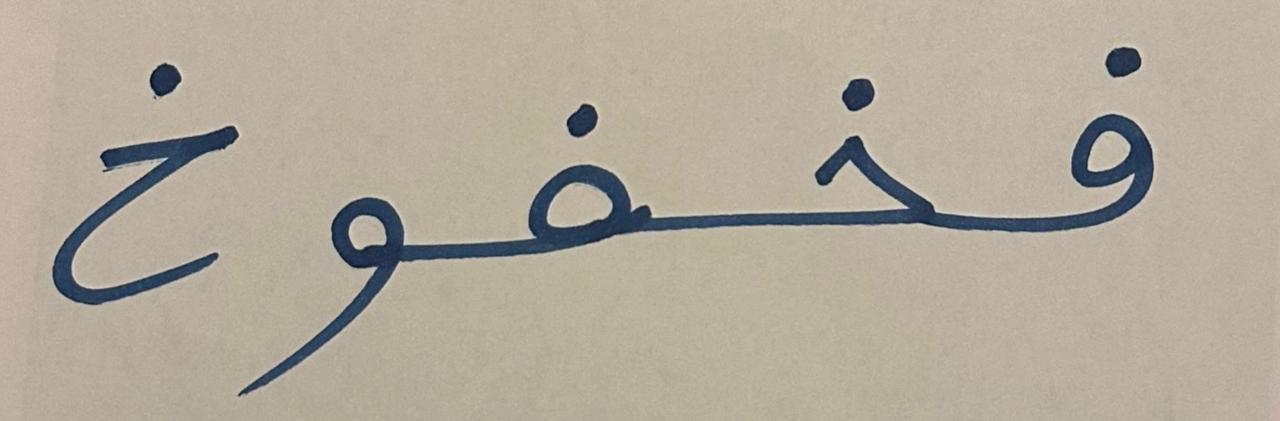feh: (466, 1, 722, 328), (968, 0, 1206, 297)
lam: (16, 17, 253, 348), (724, 3, 965, 319)
yeh: (257, 130, 463, 394)
